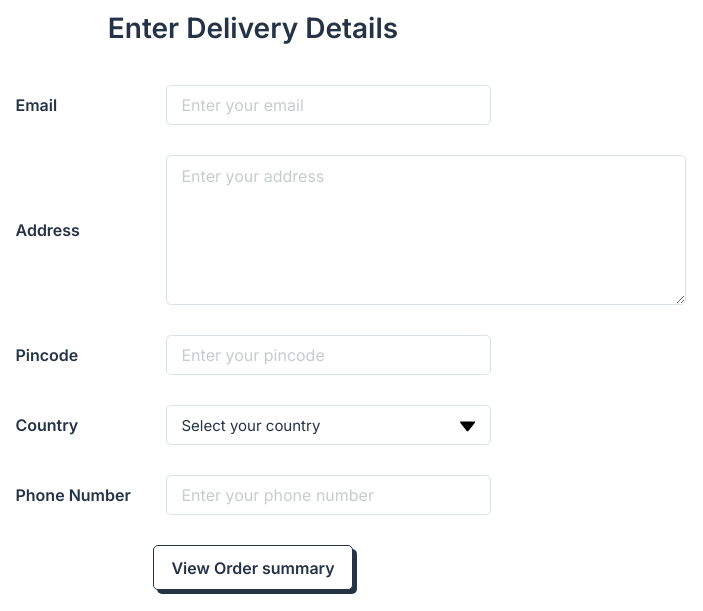
Test: PurchaseBook › should show an address field
The image size is (703, 611).
Click the text box with placeholder "Enter your address" at (426, 230), box [166,155,686,305]
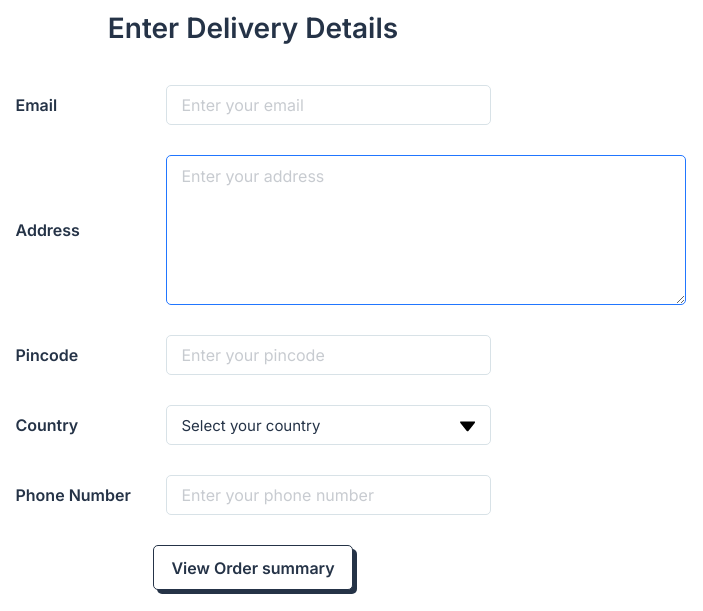
Type keys "10 - B, 1st street, 2nd Cross cut road, chennai."
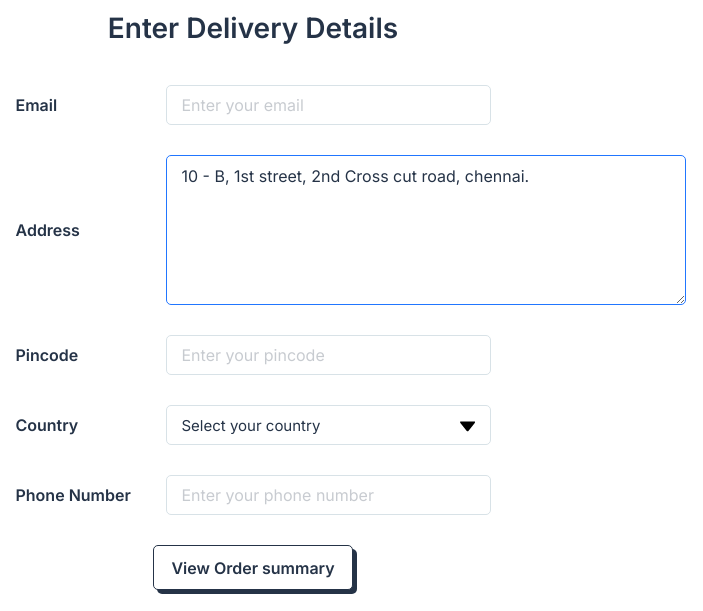
Expected: the text box with placeholder "Enter your address" holds "10 - B, 1st street, 2nd Cross cut road, chennai.", [166,155,686,305]
